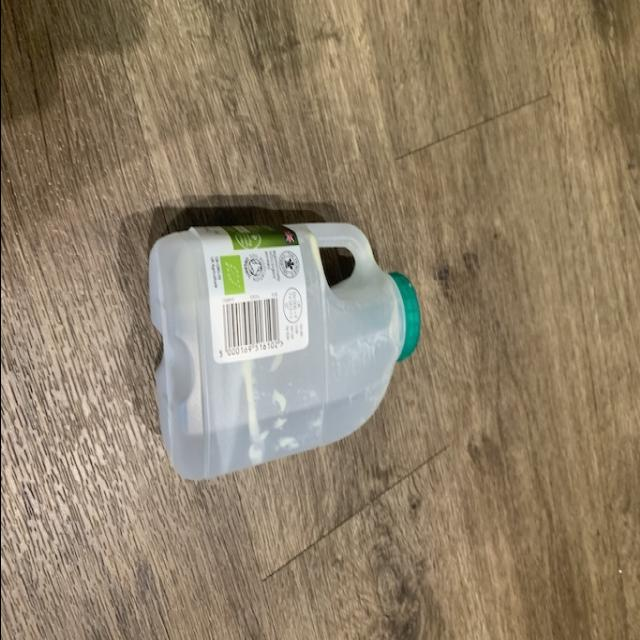HDPEM: (149, 218, 417, 484)
